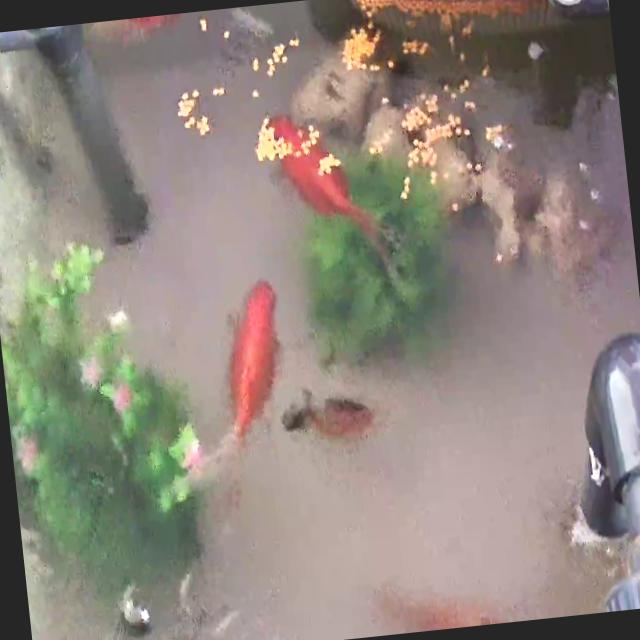fish: (216, 277, 292, 448), (260, 101, 358, 232), (378, 575, 500, 635), (279, 382, 370, 444), (76, 13, 180, 47)
